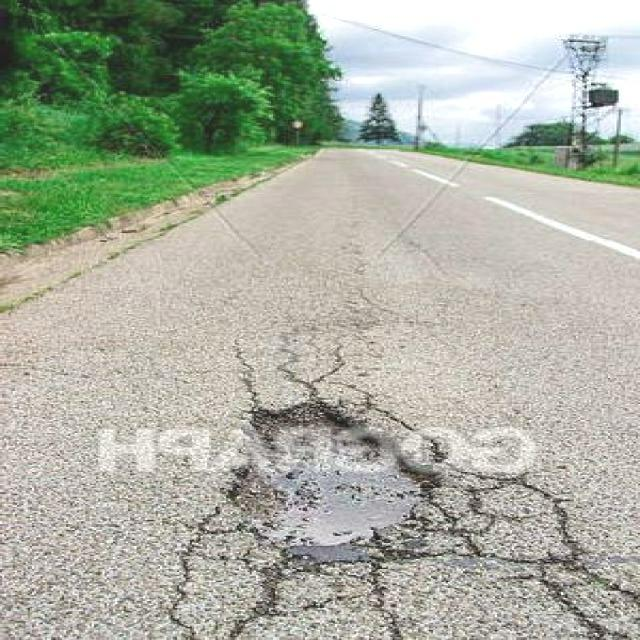Pothole: (220, 397, 448, 565)
